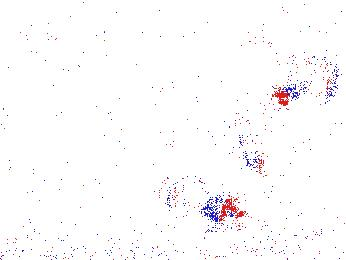flame jellyfish: (158, 171, 243, 222), (219, 106, 275, 174), (275, 53, 340, 105)
